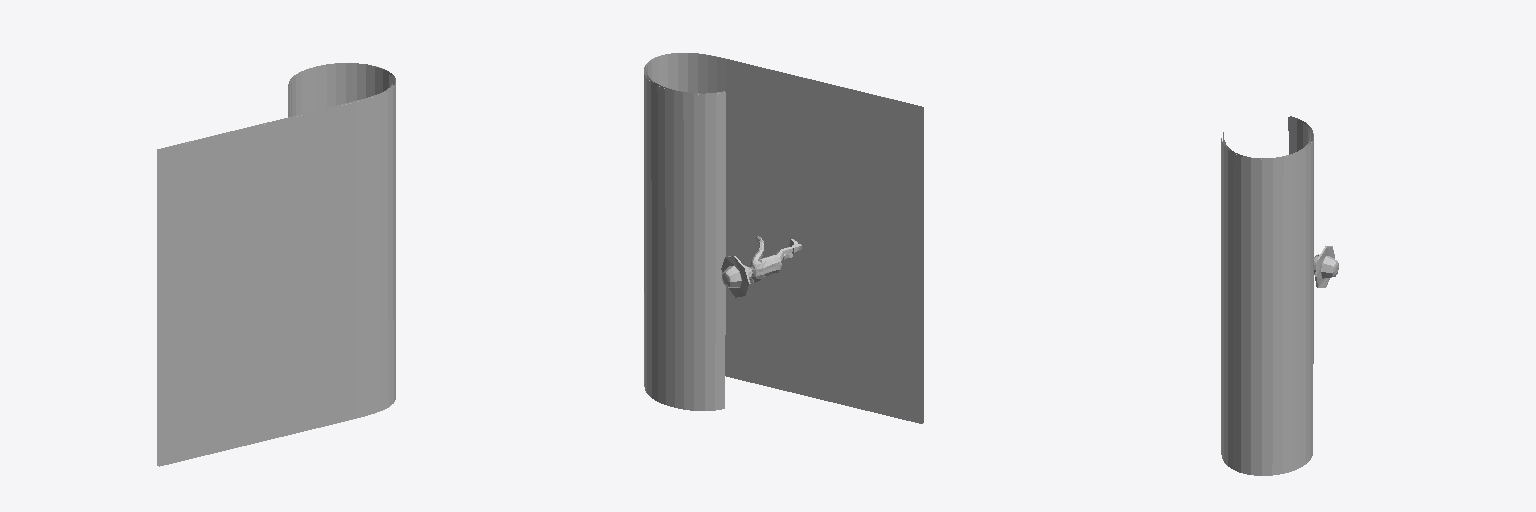
The model's file is start_file2_000055.obj.
The picture shows the model from 3 angles: view 1: azimuth 30°, elevation 25°; view 2: azimuth 150°, elevation 25°; view 3: azimuth 270°, elevation 25°; orthographic projection.
Visible parts, largest first — view 1: Cube_Cube.001; view 2: Cube_Cube.001, Character_Cube; view 3: Cube_Cube.001, Character_Cube.
Part boxes in pixels (left/top/right/bottom): Cube_Cube.001: left=157, top=63, right=395, bottom=466; Cube_Cube.001: left=644, top=53, right=923, bottom=423; Character_Cube: left=721, top=236, right=801, bottom=297; Cube_Cube.001: left=1221, top=116, right=1313, bottom=475; Character_Cube: left=1314, top=246, right=1338, bottom=287.
Size of the model in its own units: 1.28 by 1.52 by 0.5166.